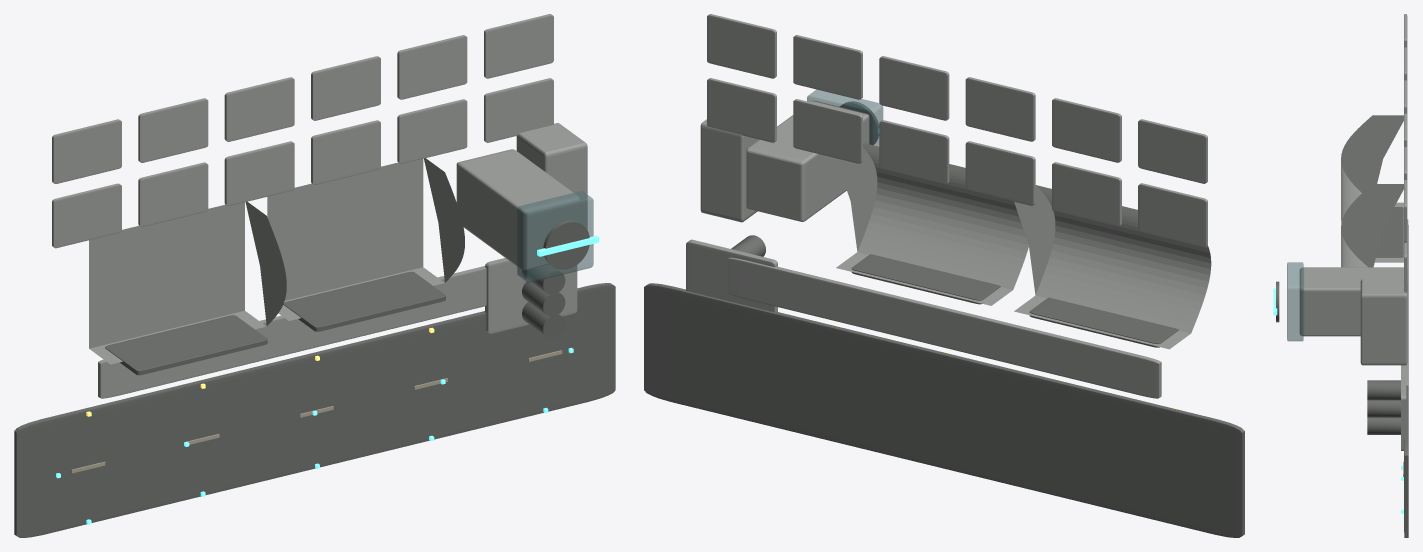
The model's file is b-19-frontline-airfield-lod1.glb.
The picture shows the model from 3 angles, left to right: view 1: azimuth 30°, elevation 25°; view 2: azimuth 150°, elevation 25°; view 3: azimuth 270°, elevation 25°; orthographic projection. The views are drawn at different scales.
Parts seen in each view (by area): view 1: runway, hangar_left, hangar_right, control_tower, taxiway, hangar_door_left, hangar_door_right, control_glass, operations_block, parking_08, parking_05, parking_11 (+14 smaller); view 2: runway, taxiway, hangar_left, hangar_right, control_tower, operations_block, parking_04, parking_09, parking_03, parking_10, parking_01, parking_12 (+10 smaller); view 3: control_tower, operations_block, hangar_left, hangar_right, control_glass, hangar_door_left, runway, fuel_tank_0.75, fuel_tank_-0.75, fuel_tank_0, fuel_farm_pad, taxiway (+2 smaller).
Boxes of the visible parts, left/top/right/bottom form: runway: left=14, top=283, right=615, bottom=537; hangar_left: left=89, top=201, right=286, bottom=364; hangar_right: left=267, top=158, right=464, bottom=320; control_tower: left=456, top=149, right=579, bottom=270; taxiway: left=98, top=266, right=486, bottom=398; hangar_door_left: left=105, top=315, right=267, bottom=375; hangar_door_right: left=283, top=271, right=445, bottom=331; control_glass: left=517, top=191, right=593, bottom=282; operations_block: left=516, top=123, right=587, bottom=229; parking_08: left=138, top=98, right=208, bottom=162; parking_05: left=397, top=99, right=467, bottom=163; parking_11: left=397, top=35, right=467, bottom=99; runway: left=644, top=283, right=1244, bottom=537; taxiway: left=727, top=257, right=1161, bottom=398; hangar_left: left=1014, top=185, right=1211, bottom=349; hangar_right: left=836, top=143, right=1028, bottom=305; control_tower: left=746, top=101, right=869, bottom=221; operations_block: left=700, top=119, right=758, bottom=222; parking_04: left=879, top=120, right=949, bottom=184; parking_09: left=965, top=77, right=1035, bottom=141; parking_03: left=965, top=141, right=1035, bottom=205; parking_10: left=879, top=56, right=949, bottom=120; parking_01: left=1138, top=183, right=1207, bottom=247; parking_12: left=707, top=14, right=776, bottom=78; control_tower: left=1300, top=267, right=1407, bottom=336; operations_block: left=1360, top=279, right=1407, bottom=365; hangar_left: left=1341, top=115, right=1403, bottom=262; hangar_right: left=1341, top=184, right=1403, bottom=267; control_glass: left=1287, top=262, right=1303, bottom=341; hangar_door_left: left=1376, top=207, right=1403, bottom=257; runway: left=1404, top=225, right=1408, bottom=537; fuel_tank_0.75: left=1367, top=380, right=1400, bottom=400; fuel_tank_-0.75: left=1367, top=417, right=1400, bottom=434; fuel_tank_0: left=1367, top=400, right=1400, bottom=417; fuel_farm_pad: left=1401, top=365, right=1406, bottom=450; taxiway: left=1406, top=219, right=1408, bottom=412.
Size of what is drawn, in the model's own units: 21.5 by 13.57 by 5.34.
